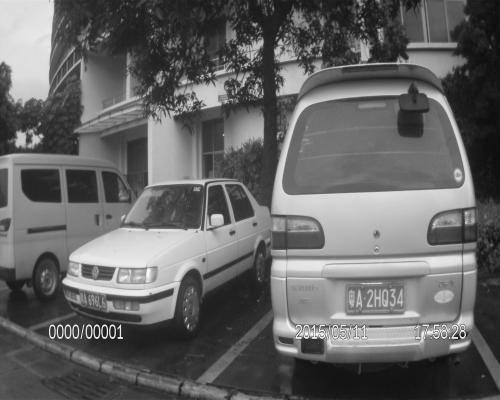Carplate: (342, 282, 410, 317), (77, 286, 110, 314)
